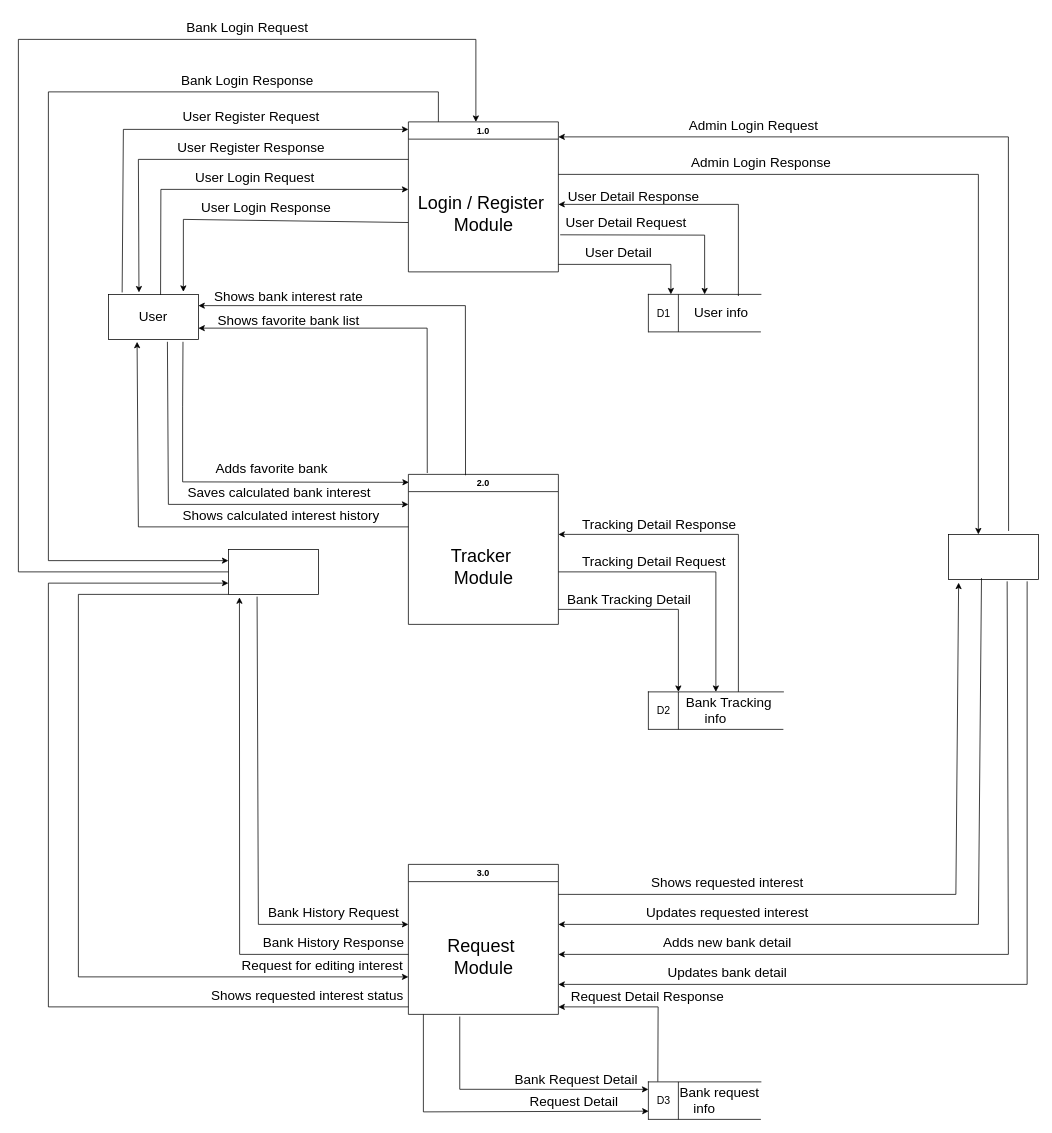
This 1052x1133 diagram has some shape labels left out. The shapes that lost their labels are listed below. From the top down, each one's centre as x and y in pixels, then its label:
At pixel 273 571: "Bank".
At pixel 993 556: "Admin".
